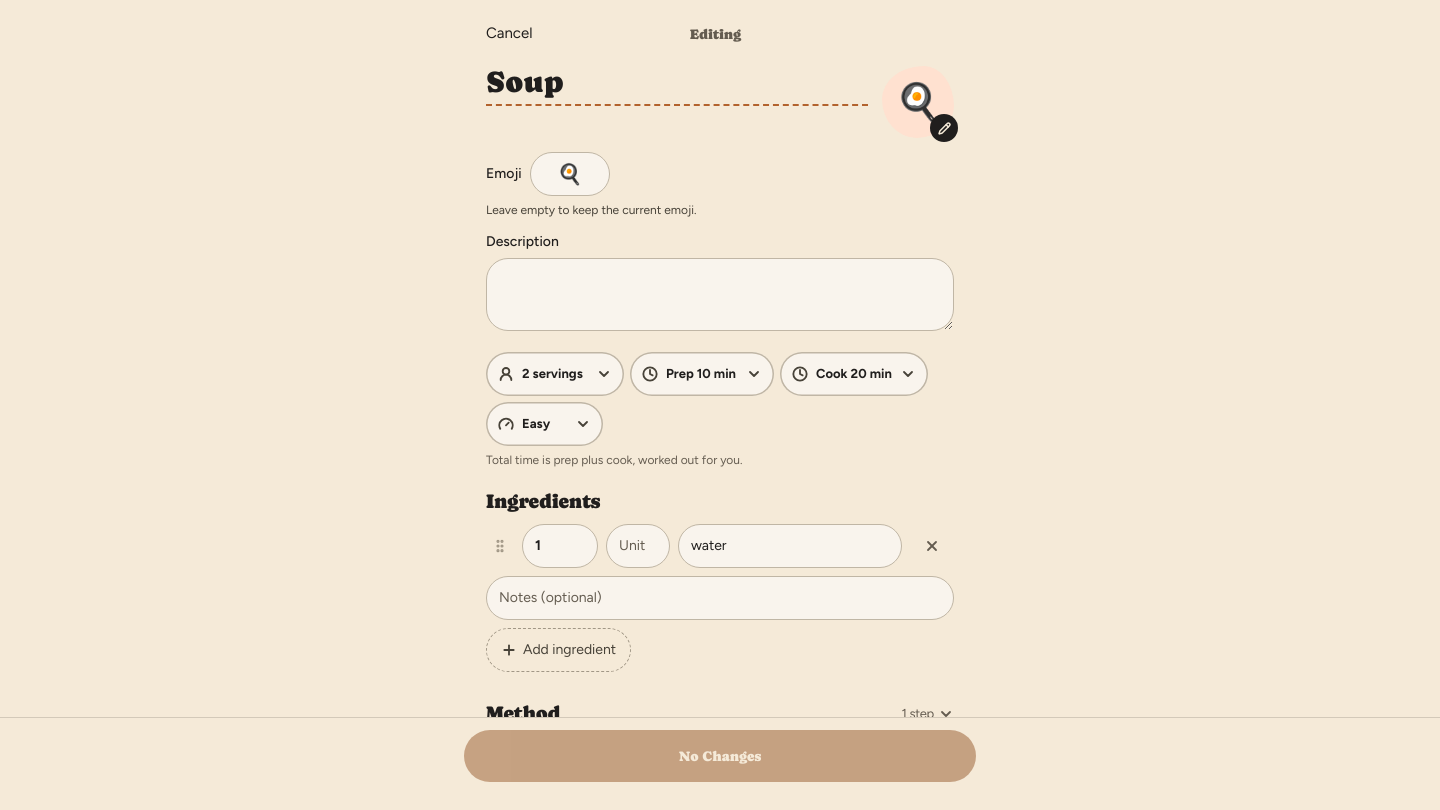
RecipeEditPage save (verified owner, cloud first) › a failed cloud check writes nothing and shows the connection error
The image size is (1440, 810).
Replace the text in the field named "Title" with "Stew" at (677, 86), box [486, 66, 868, 106]
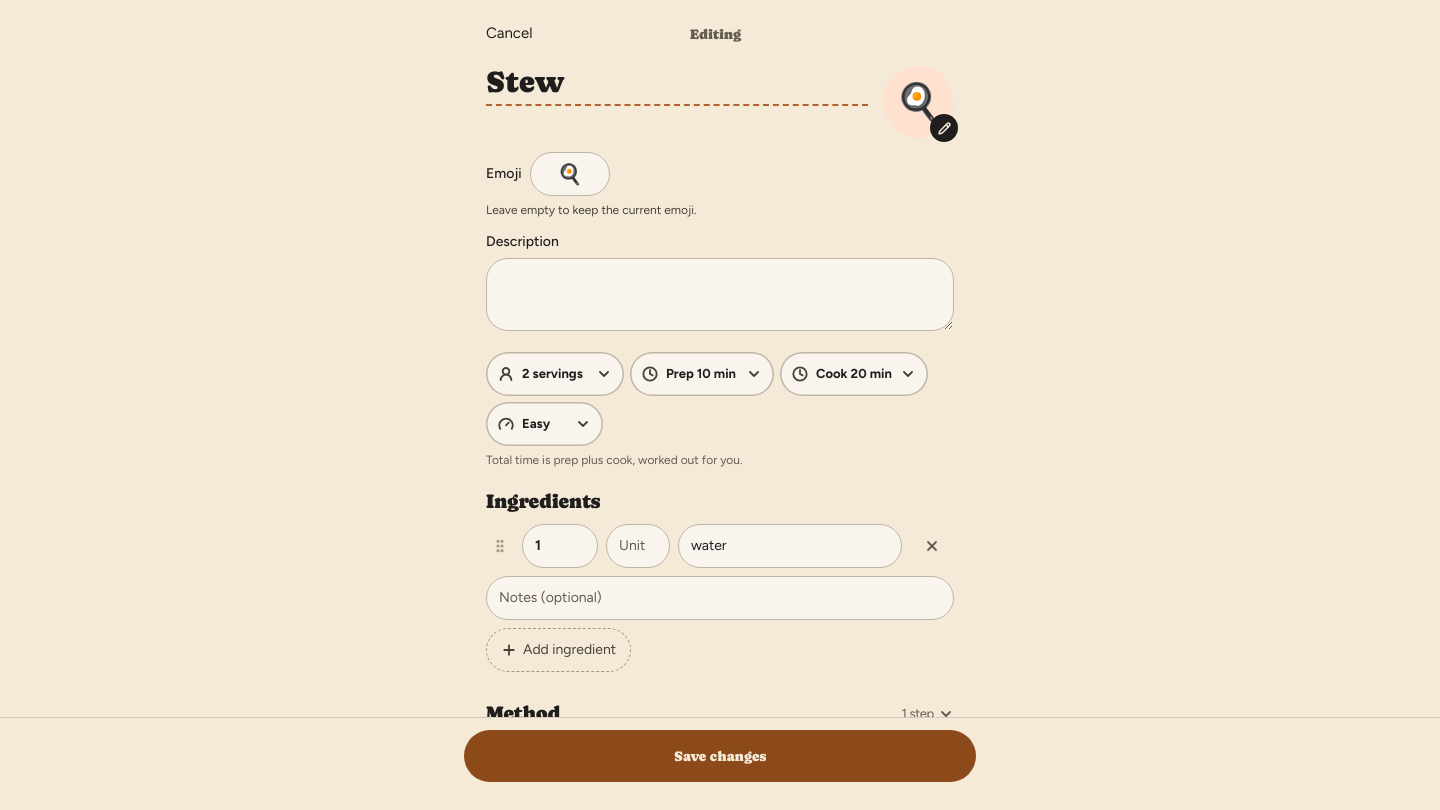
Click the button "Save changes" at (720, 756), box [464, 730, 976, 782]
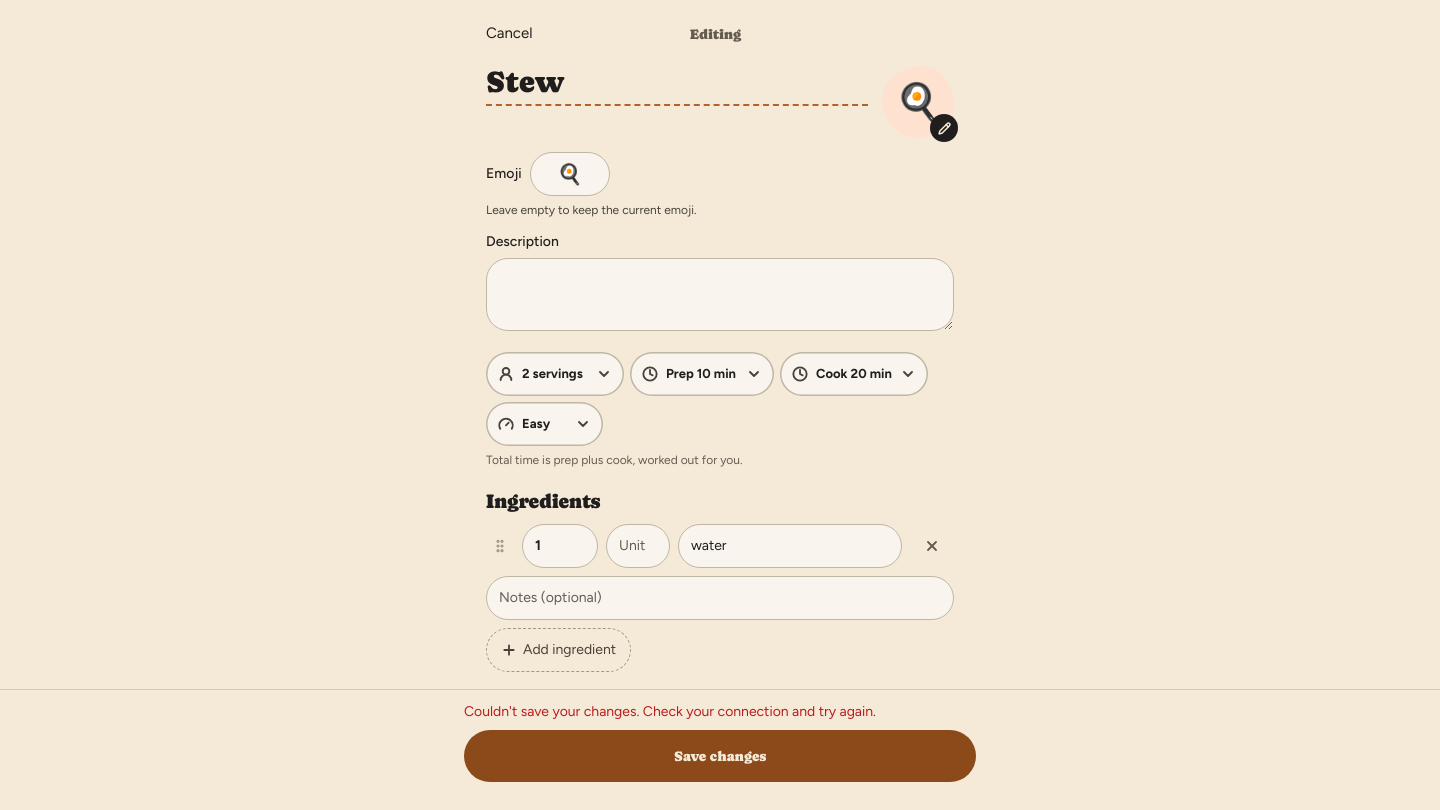
Expected: the message reads "Couldn't save your changes. Check your connection and try again.", [464, 703, 876, 720]
